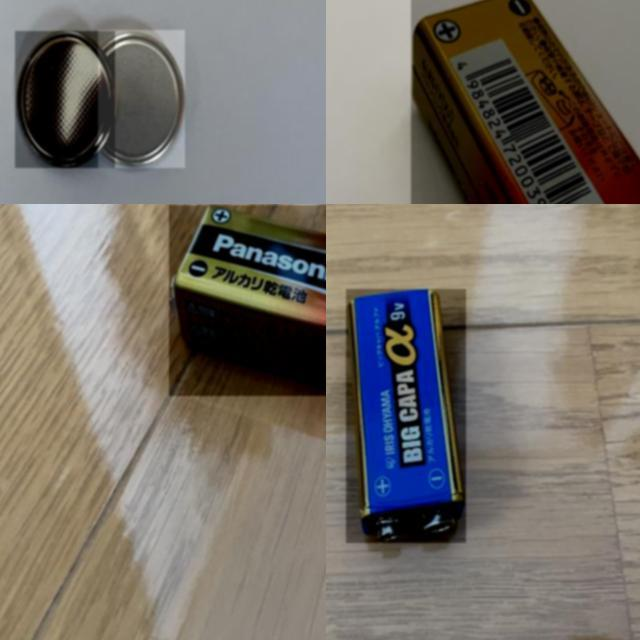9V: (411, 0, 640, 204), (347, 289, 467, 543), (169, 205, 326, 396)
